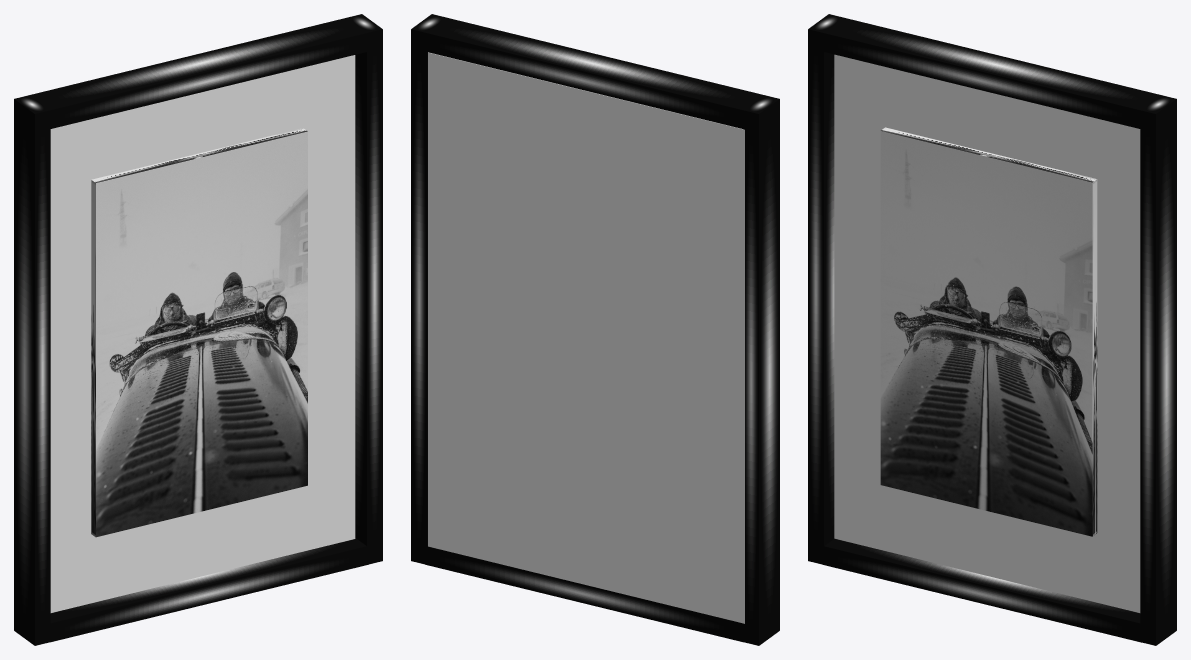
Rendered from frame-image4.glb.
The picture shows the model from 3 angles, left to right: view 1: azimuth 30°, elevation 25°; view 2: azimuth 150°, elevation 25°; view 3: azimuth 330°, elevation 25°; orthographic projection.
Parts seen in each view (by area): view 1: image, Cube, Cube (4), Cube (1), Cube (3), Cube (2); view 2: Cube, Cube (4), Cube (3), Cube (1), Cube (2); view 3: image, Cube, Cube (1), Cube (4), Cube (3), Cube (2).
Part boxes in pixels (<box>): image: <box>91,128,307,537</box>; Cube: <box>50,55,355,612</box>; Cube (4): <box>14,95,50,645</box>; Cube (1): <box>347,14,382,564</box>; Cube (3): <box>30,17,367,128</box>; Cube (2): <box>50,538,366,641</box>; Cube: <box>428,52,744,623</box>; Cube (4): <box>744,95,779,645</box>; Cube (3): <box>425,18,763,129</box>; Cube (1): <box>411,14,447,564</box>; Cube (2): <box>425,546,743,642</box>; image: <box>880,127,1097,536</box>; Cube: <box>834,54,1140,612</box>; Cube (1): <box>1140,95,1176,645</box>; Cube (4): <box>808,14,843,564</box>; Cube (3): <box>824,18,1160,128</box>; Cube (2): <box>824,538,1141,642</box>.
Bounding box in the file's own units: 193 × 282 × 20.01.
3 materials, 2 textured.
